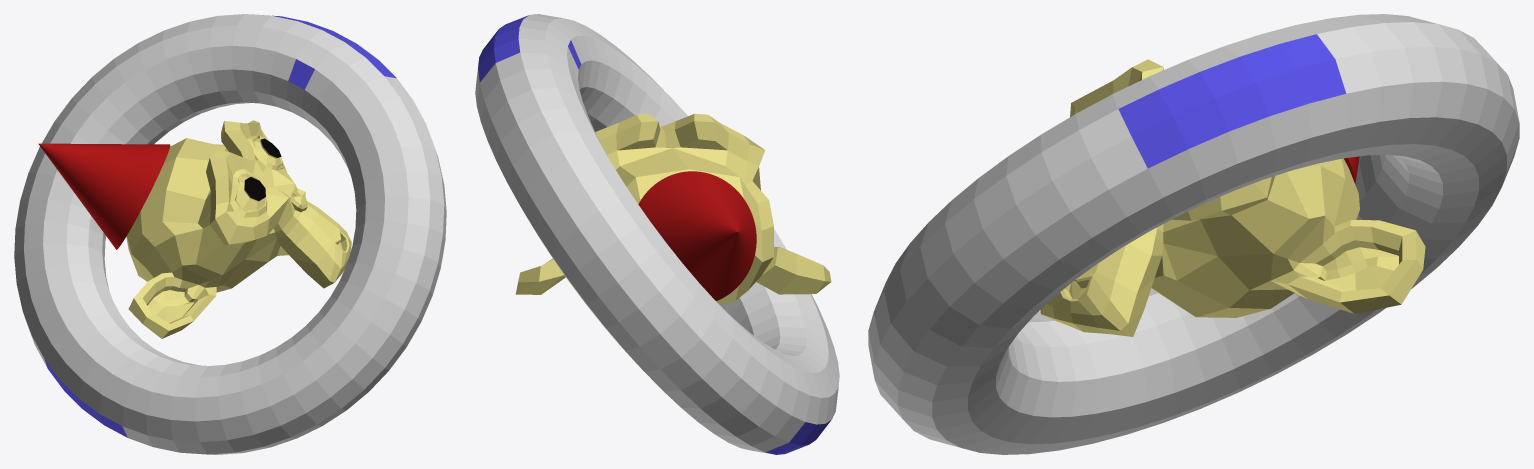
File: monka.gltf
The picture shows the model from 3 angles, left to right: view 1: azimuth 30°, elevation 25°; view 2: azimuth 150°, elevation 25°; view 3: azimuth 270°, elevation 25°; orthographic projection. The views are drawn at different scales.
Visible parts, largest first — view 1: donut.001, Suzanne, Cone; view 2: donut.001, Suzanne, Cone; view 3: donut.001, Suzanne.
Part boxes in pixels (box(x1,y1,x2,y2)): donut.001: box(14, 14, 446, 454); Suzanne: box(126, 120, 351, 338); Cone: box(38, 143, 170, 249); donut.001: box(475, 14, 839, 454); Suzanne: box(515, 113, 831, 305); Cone: box(638, 171, 756, 300); donut.001: box(868, 14, 1519, 454); Suzanne: box(1040, 59, 1425, 336).
Size of the model in its own units: 3.42 by 3.51 by 3.95.
